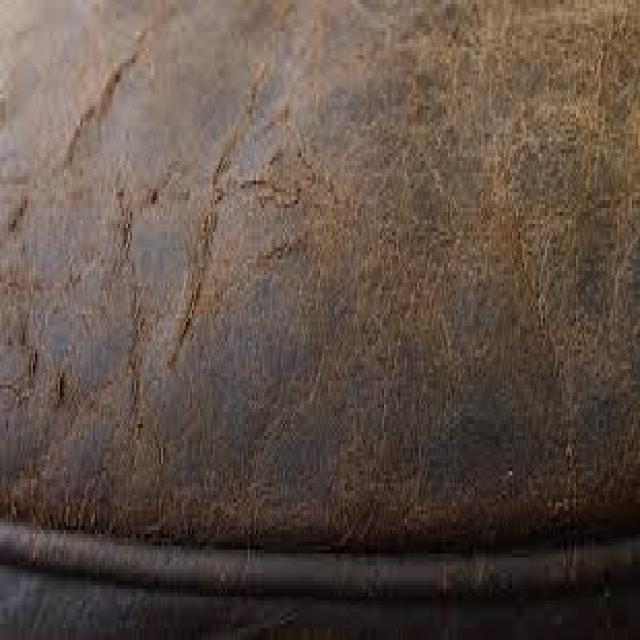Rotten surface: (183, 95, 317, 378), (68, 75, 164, 424)
